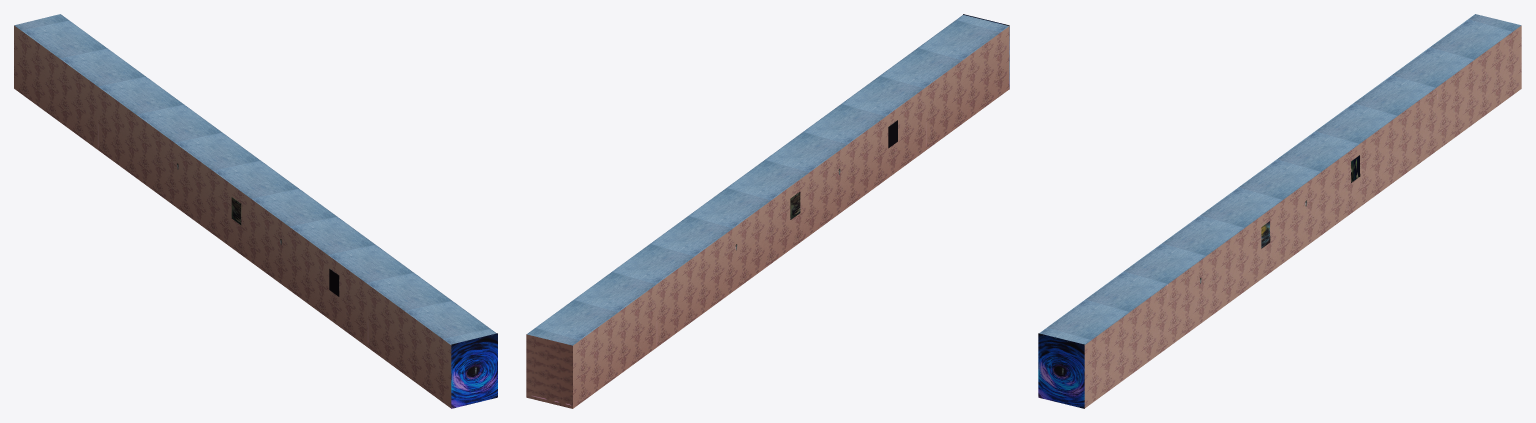
File: delusional.gltf
3 renders of one model, left to right at view 1: azimuth 30°, elevation 25°; view 2: azimuth 150°, elevation 25°; view 3: azimuth 330°, elevation 25°, orthographic.
Visible parts, largest first — view 1: object 3, BodenUndDecke, Plane; view 2: object 3, BodenUndDecke; view 3: object 3, BodenUndDecke, Plane.
Boxes of the visible parts, x1=… form: object 3: x1=14, y1=25, x2=451, y2=408; BodenUndDecke: x1=14, y1=14, x2=496, y2=345; Plane: x1=451, y1=333, x2=497, y2=408; object 3: x1=526, y1=26, x2=1009, y2=408; BodenUndDecke: x1=527, y1=15, x2=1008, y2=345; object 3: x1=1084, y1=25, x2=1521, y2=408; BodenUndDecke: x1=1039, y1=14, x2=1521, y2=345; Plane: x1=1038, y1=333, x2=1084, y2=408.
Bounding box in the file's own units: 2.34 × 3.05 × 37.5.
